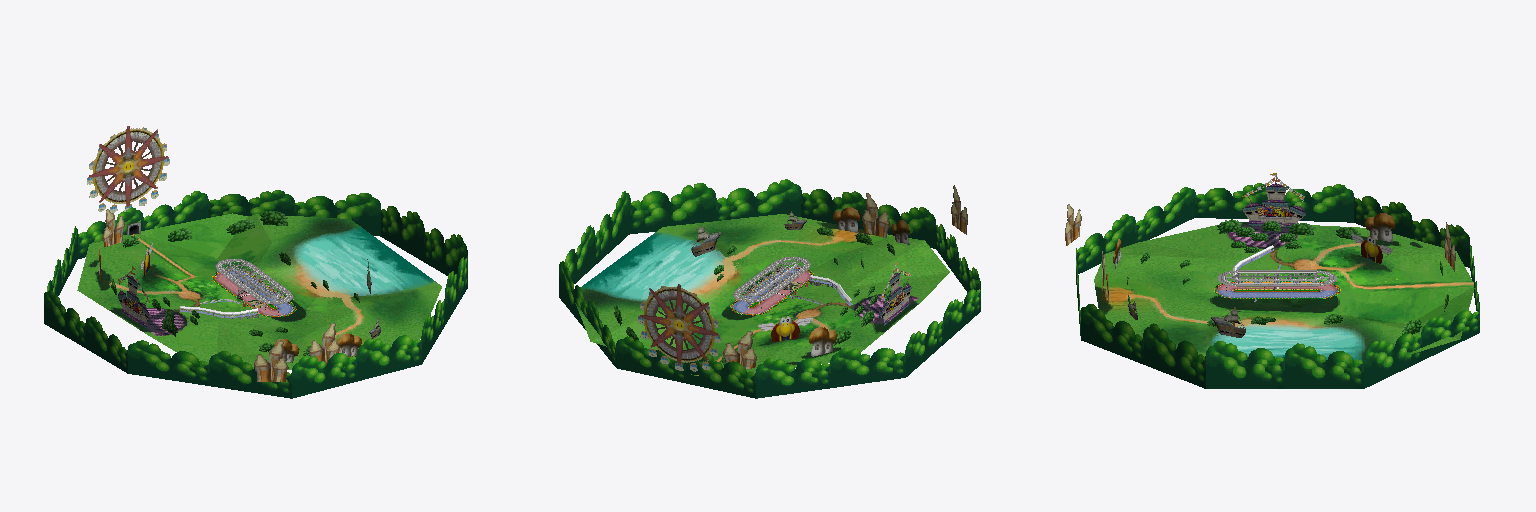
3 views of the same model, side by side, from view 1: azimuth 30°, elevation 25°; view 2: azimuth 150°, elevation 25°; view 3: azimuth 270°, elevation 25° (orthographic).
Visible parts, largest first — view 1: polygon22, polygon11, polygon3, polygon7, polygon2, polygon16, polygon8, polygon17; view 2: polygon22, polygon11, polygon3, polygon7, polygon8, polygon2, polygon16, polygon4, polygon6, polygon17; view 3: polygon22, polygon11, polygon2, polygon16, polygon7, polygon8, polygon13, polygon6, polygon4.
Part boxes in pixels (x1,y1,x2,y2): polygon22: (77, 211, 441, 369); polygon11: (44, 190, 467, 398); polygon3: (87, 126, 169, 213); polygon7: (102, 209, 339, 381); polygon2: (118, 266, 149, 327); polygon16: (215, 259, 293, 304); polygon8: (99, 249, 361, 362); polygon17: (222, 261, 285, 319); polygon22: (575, 214, 949, 375); polygon11: (559, 179, 980, 398); polygon3: (638, 284, 720, 371); polygon7: (723, 185, 967, 368); polygon8: (809, 207, 909, 356); polygon2: (880, 262, 911, 325); polygon16: (733, 257, 810, 302); polygon4: (758, 316, 812, 341); polygon6: (691, 211, 806, 256); polygon17: (740, 259, 832, 298); polygon22: (1094, 219, 1474, 361); polygon11: (1076, 183, 1479, 388); polygon2: (1242, 173, 1306, 226); polygon16: (1218, 270, 1336, 286); polygon7: (1065, 204, 1455, 290); polygon8: (1106, 213, 1394, 302); polygon13: (1218, 250, 1336, 301); polygon6: (1128, 301, 1245, 337); polygon4: (1351, 233, 1392, 263).
Size of the model in its own units: 598 by 181 by 640.
24 materials, 24 textured.